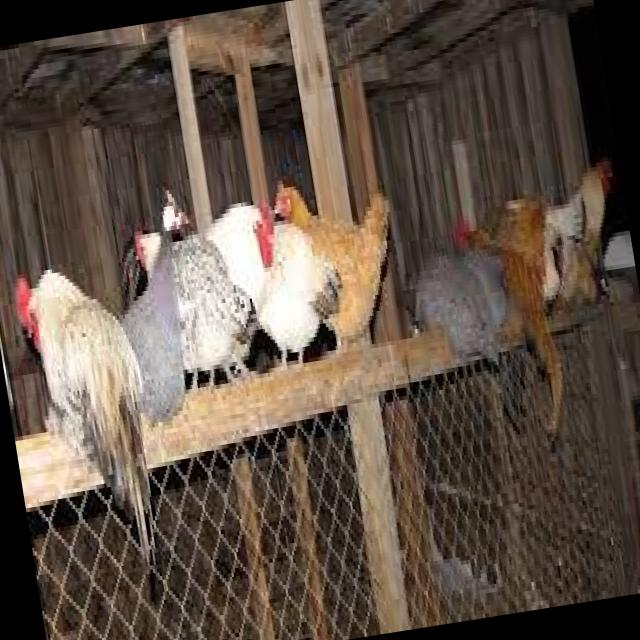sleeping chickens: (0, 244, 174, 555), (98, 176, 211, 454), (264, 156, 398, 344), (182, 168, 306, 354), (396, 187, 504, 384)
